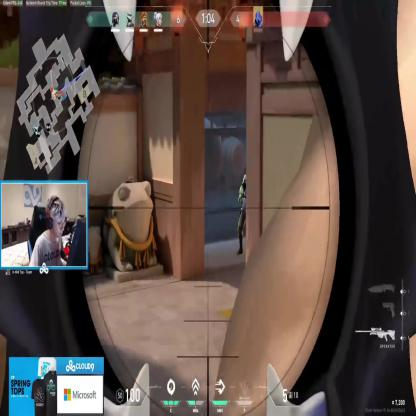enemy: (235, 171, 255, 261)
enemy_head: (243, 174, 249, 188)
